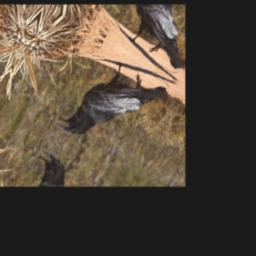Crow: (55, 47, 173, 171)
